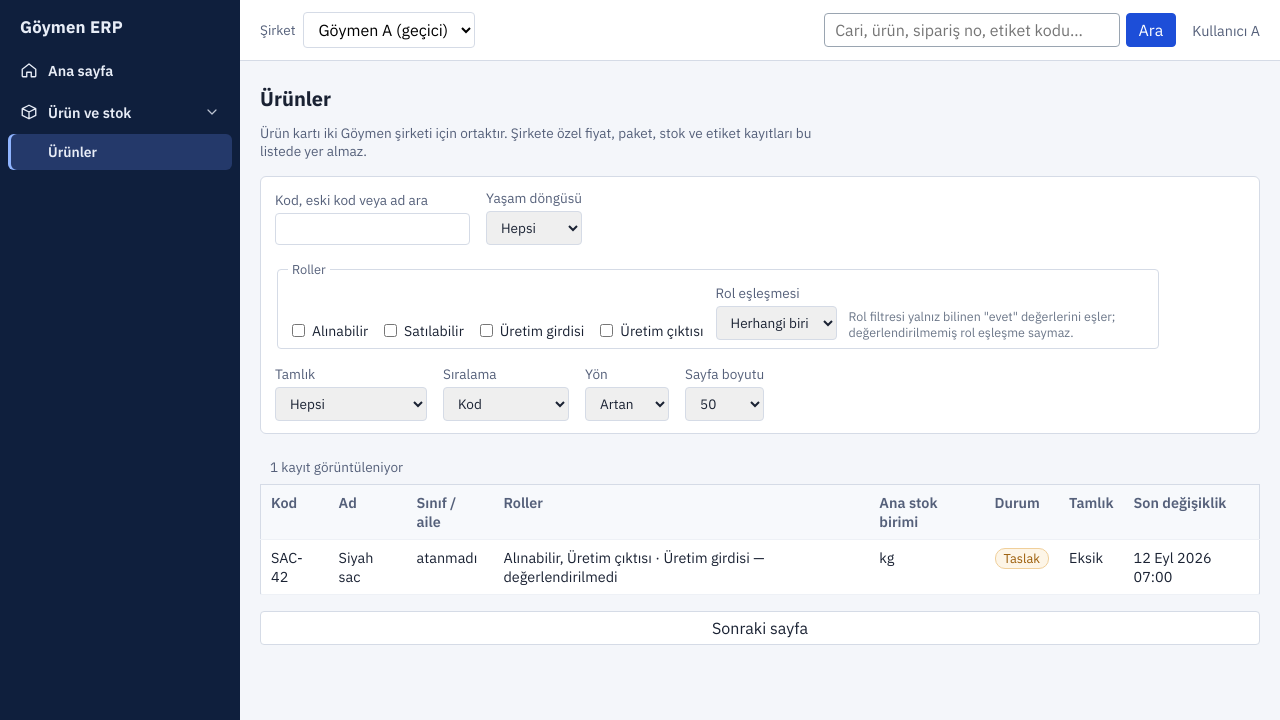
it: paging › appends the next page to the rows already loaded
What coordinates should you click on to do the following:
click the button "Sonraki sayfa"
I would click on:
 (760, 628)
Its box is [260,611,1260,645].
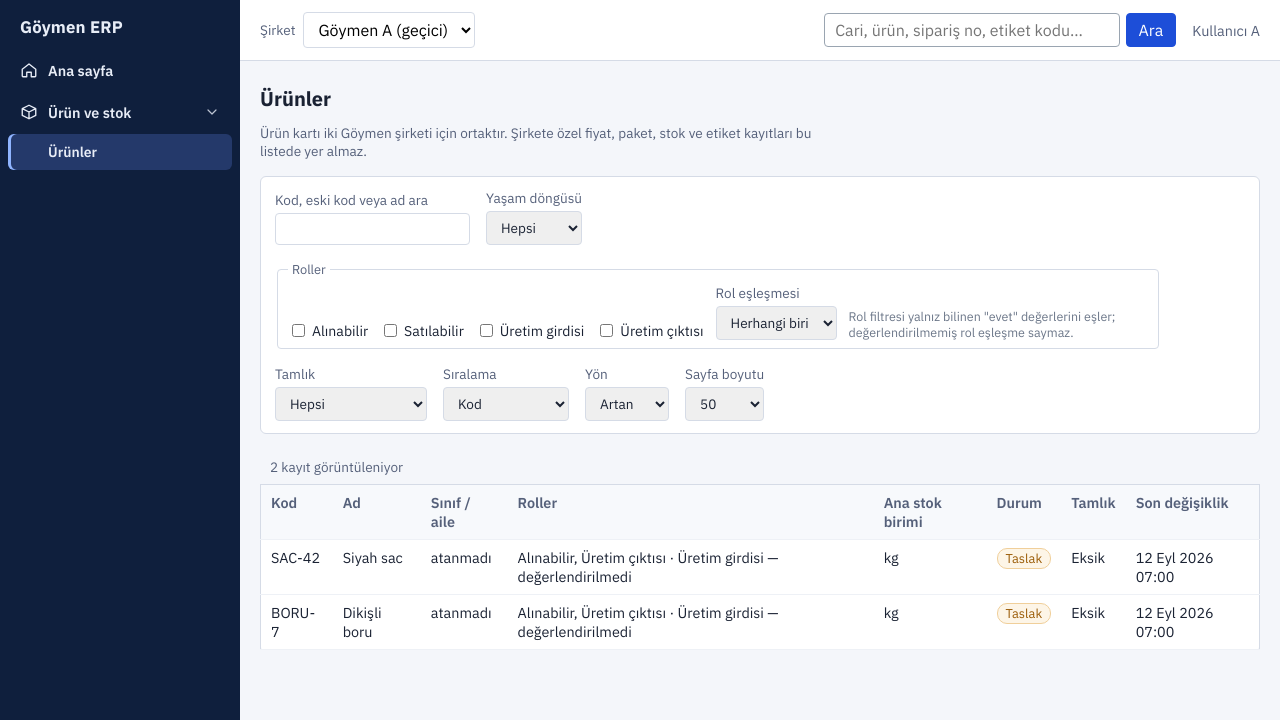
Expected: the text "SAC-42" is shown, [271,548,320,567]
Result: the text "BORU-7" is shown at [271,603,315,641]
